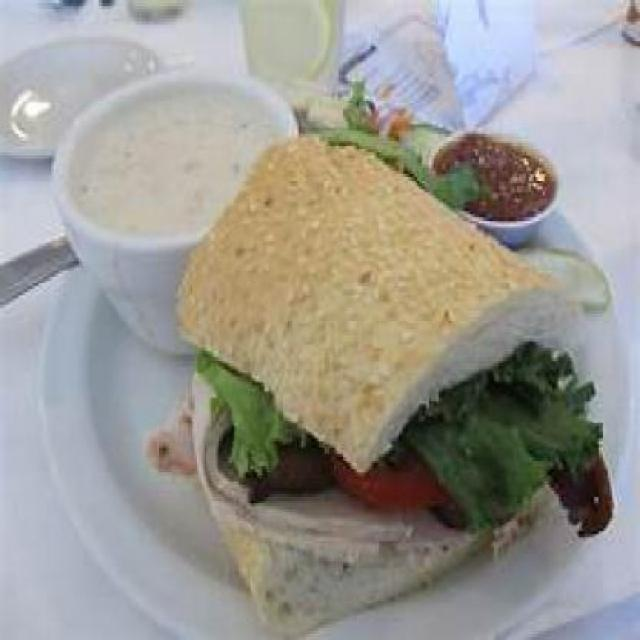clam chowder: (58, 68, 290, 298)
club sandwich: (168, 137, 601, 625)
